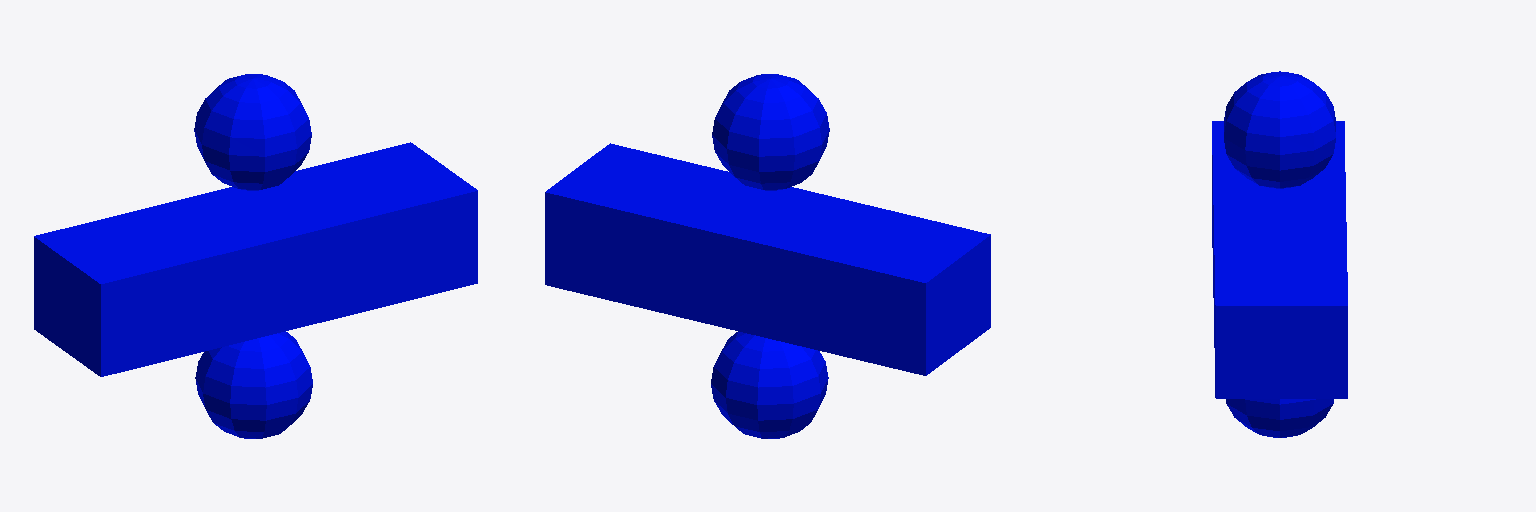
Rendered from division.obj.
3 renders of one model, left to right at view 1: azimuth 30°, elevation 25°; view 2: azimuth 150°, elevation 25°; view 3: azimuth 270°, elevation 25°, orthographic.
Visible parts, largest first — view 1: 002_Box, 001_Sphere, 000_Sphere_1; view 2: 002_Box, 001_Sphere, 000_Sphere_1; view 3: 002_Box, 001_Sphere, 000_Sphere_1.
Part boxes in pixels (x1,y1,x2,y2): 002_Box: (34,142,477,376); 001_Sphere: (194,74,311,190); 000_Sphere_1: (195,331,312,438); 002_Box: (545,143,990,375); 001_Sphere: (712,74,829,190); 000_Sphere_1: (711,331,828,438); 002_Box: (1212,121,1347,398); 001_Sphere: (1224,71,1335,188); 000_Sphere_1: (1226,399,1333,437).
Bounding box in the file's own units: 70.38 × 63 × 21.85.